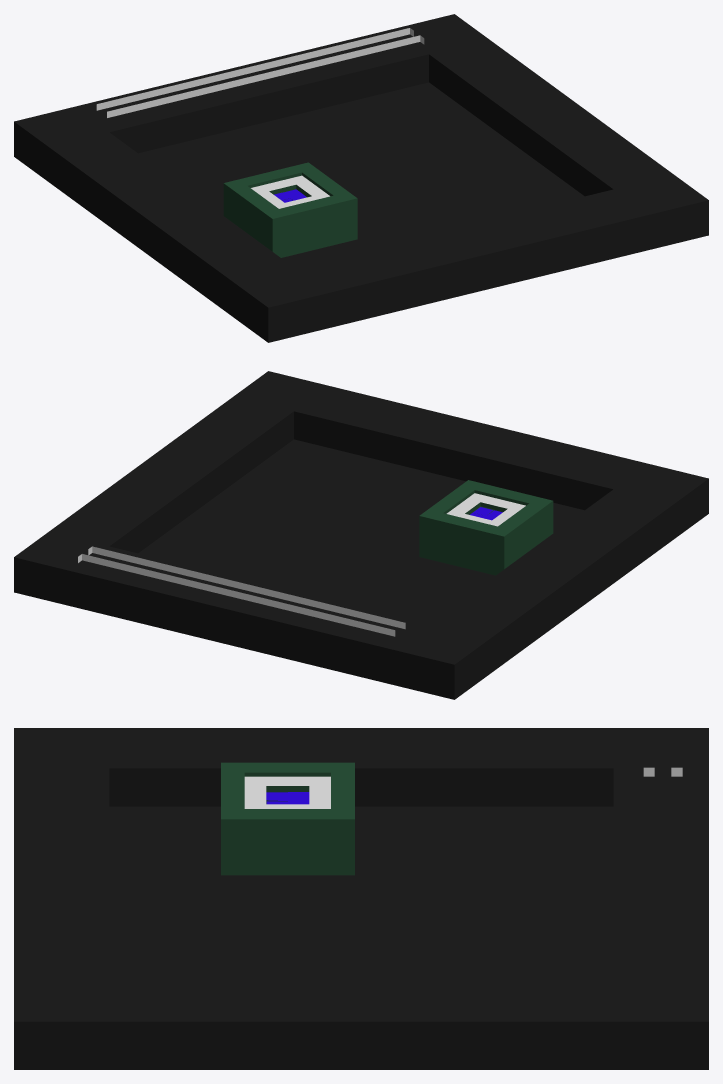
The model's file is sushi.gltf.
3 views of the same model, one above another, from view 1: azimuth 30°, elevation 25°; view 2: azimuth 150°, elevation 25°; view 3: azimuth 270°, elevation 25° (orthographic). The views are drawn at different scales.
Visible parts, largest first — view 1: Plate, Sushi, Cube.001, Cube; view 2: Plate, Sushi, Cube, Cube.001; view 3: Plate, Sushi.
Boxes of the visible parts, <box> form: Plate: <box>14,14,708,342</box>; Sushi: <box>223,162,357,257</box>; Cube.001: <box>96,28,413,110</box>; Cube: <box>107,35,424,117</box>; Plate: <box>14,371,708,699</box>; Sushi: <box>419,480,553,575</box>; Cube: <box>88,546,405,629</box>; Cube.001: <box>78,554,395,636</box>; Plate: <box>14,728,708,1069</box>; Sushi: <box>221,762,354,875</box>.
Bounding box in the file's own units: 8 × 0.8498 × 8.
